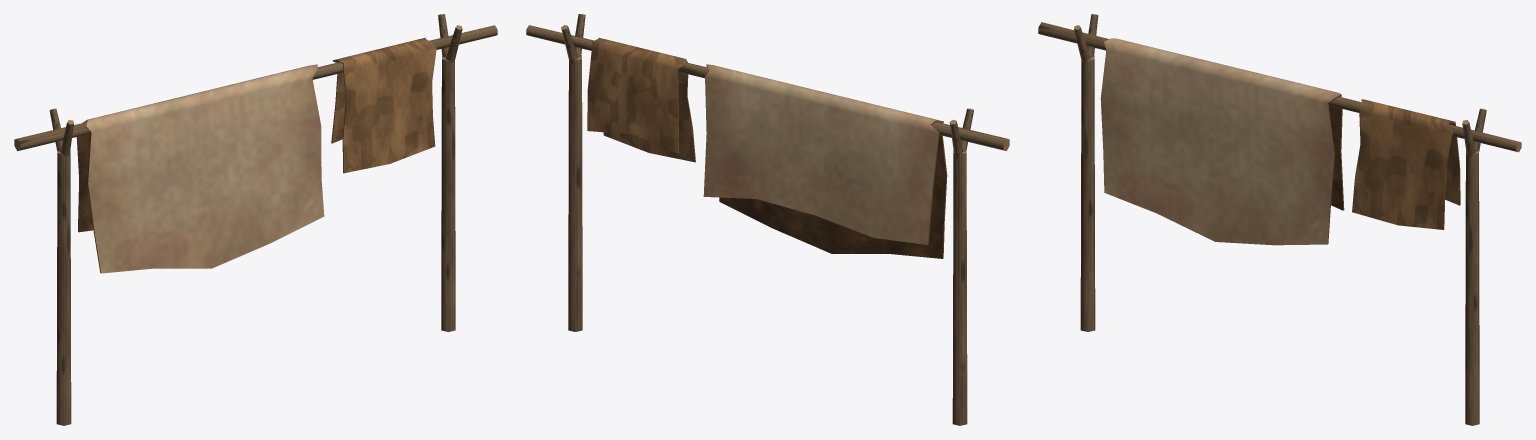
The model's file is hide_drying_rack.glb.
3 renders of one model, left to right at view 1: azimuth 30°, elevation 25°; view 2: azimuth 150°, elevation 25°; view 3: azimuth 330°, elevation 25°, orthographic.
Parts seen in each view (by area): view 1: HIDE_DRYING_RACK; view 2: HIDE_DRYING_RACK; view 3: HIDE_DRYING_RACK.
Part boxes in pixels (x1,y1,x2,y2): HIDE_DRYING_RACK: [14, 14, 497, 425]; HIDE_DRYING_RACK: [526, 14, 1009, 425]; HIDE_DRYING_RACK: [1038, 14, 1521, 425].
Bounding box in the file's own units: 2.36 × 1.46 × 0.1793.
1 material, 1 textured.
